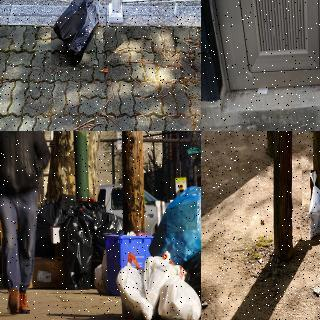Garbage: (147, 178, 201, 252), (50, 0, 103, 67), (59, 206, 98, 291), (113, 252, 155, 320), (142, 251, 186, 304), (156, 272, 201, 320), (302, 170, 320, 239)
